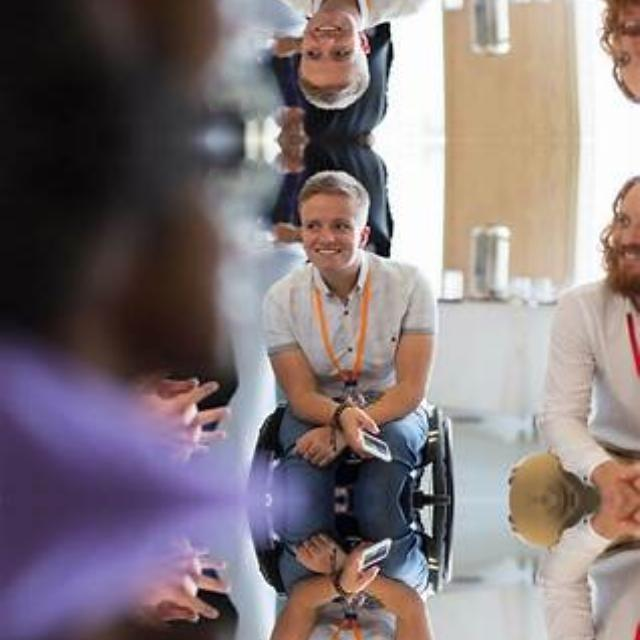person: (256, 166, 458, 468), (528, 178, 640, 487), (256, 0, 457, 111), (256, 531, 457, 640), (528, 512, 640, 640), (528, 0, 640, 100)
